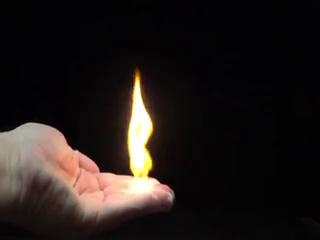Fire: (125, 106, 154, 198)
